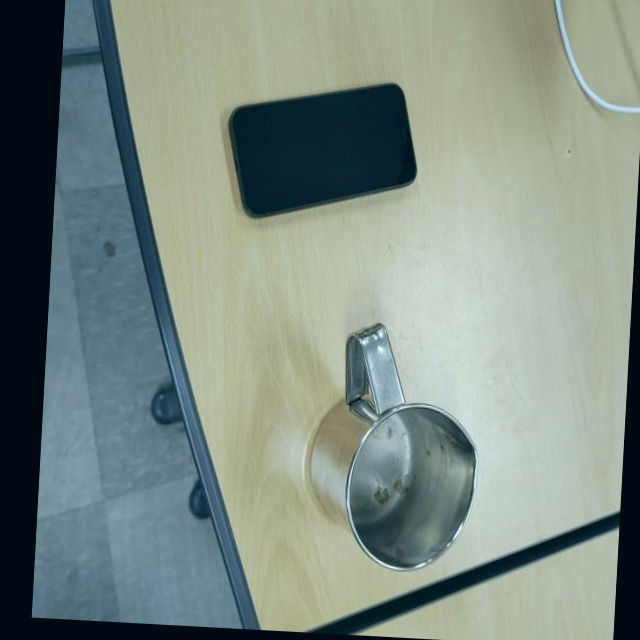cup: (301, 316, 486, 574)
phone: (221, 72, 423, 231)
